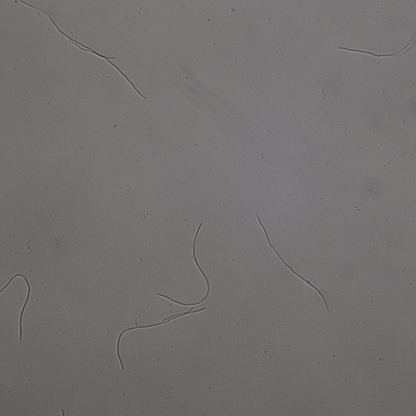Sensitive: (257, 215, 329, 311), (116, 308, 207, 370), (21, 1, 117, 58), (156, 223, 211, 305), (73, 42, 145, 99), (339, 30, 416, 58), (1, 273, 31, 339)
